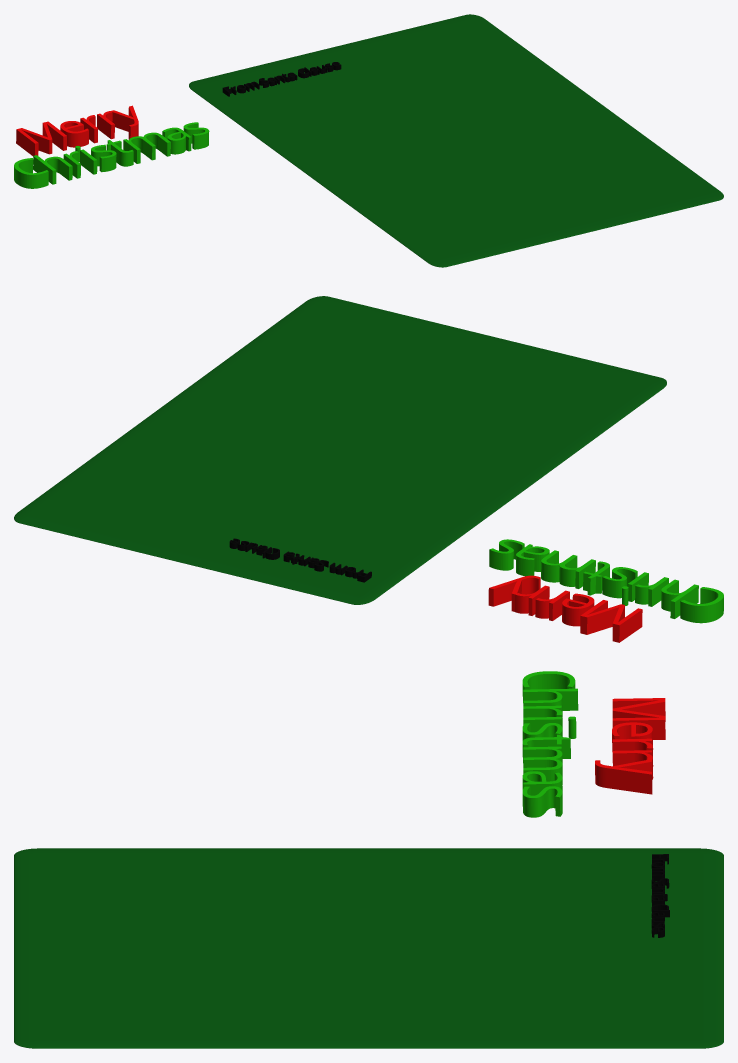
The model's file is letter_receive.glb.
3 renders of one model, top to bottom at view 1: azimuth 30°, elevation 25°; view 2: azimuth 150°, elevation 25°; view 3: azimuth 270°, elevation 25°, orthographic. The views are drawn at different scales.
Parts seen in each view (by area): view 1: Merged Objects, 3D Text 2 - M, 3D Text - m, 3D Text - C, 3D Text - h, 3D Text 2 - e, 3D Text - a, 3D Text 2 - y, 3D Text - s, 3D Text - s.001, 3D Text - t; view 2: Merged Objects, 3D Text 2 - M, 3D Text - m, 3D Text - C, 3D Text 2 - y, 3D Text - h, 3D Text - s.001, 3D Text - a, 3D Text 2 - e, 3D Text - s, 3D Text 2 - r, 3D Text - r (+2 smaller); view 3: Merged Objects, 3D Text 2 - y, 3D Text 2 - M, 3D Text - m, 3D Text - s.001, 3D Text - h, 3D Text - C, 3D Text 2 - e, 3D Text - a, 3D Text - t.
Boxes of the visible parts, x1=… form: Merged Objects: x1=189, y1=14, x2=723, y2=267; 3D Text 2 - M: x1=16, y1=121, x2=66, y2=156; 3D Text - m: x1=123, y1=132, x2=170, y2=163; 3D Text - C: x1=14, y1=158, x2=48, y2=188; 3D Text - h: x1=33, y1=155, x2=72, y2=184; 3D Text 2 - e: x1=60, y1=121, x2=88, y2=147; 3D Text - a: x1=162, y1=127, x2=191, y2=154; 3D Text 2 - y: x1=110, y1=105, x2=138, y2=139; 3D Text - s: x1=91, y1=144, x2=116, y2=172; 3D Text - s.001: x1=183, y1=122, x2=209, y2=149; 3D Text - t: x1=106, y1=140, x2=133, y2=166; Merged Objects: x1=14, y1=296, x2=666, y2=604; 3D Text 2 - M: x1=580, y1=600, x2=642, y2=642; 3D Text - m: x1=541, y1=550, x2=595, y2=588; 3D Text - C: x1=680, y1=587, x2=723, y2=623; 3D Text 2 - y: x1=488, y1=575, x2=540, y2=611; 3D Text - h: x1=661, y1=579, x2=698, y2=618; 3D Text - s.001: x1=489, y1=539, x2=524, y2=570; 3D Text - a: x1=516, y1=544, x2=549, y2=576; 3D Text 2 - e: x1=562, y1=593, x2=594, y2=626; 3D Text - s: x1=602, y1=567, x2=637, y2=598; 3D Text 2 - r: x1=535, y1=590, x2=569, y2=620; 3D Text - r: x1=635, y1=577, x2=668, y2=606; Merged Objects: x1=14, y1=848, x2=723, y2=1048; 3D Text 2 - y: x1=595, y1=759, x2=652, y2=794; 3D Text 2 - M: x1=612, y1=698, x2=665, y2=739; 3D Text - m: x1=523, y1=746, x2=562, y2=784; 3D Text - s.001: x1=522, y1=786, x2=562, y2=817; 3D Text - h: x1=523, y1=688, x2=578, y2=717; 3D Text - C: x1=522, y1=671, x2=575, y2=702; 3D Text 2 - e: x1=612, y1=722, x2=653, y2=751; 3D Text - a: x1=522, y1=771, x2=562, y2=796; 3D Text - t: x1=522, y1=734, x2=570, y2=762.
Size of the model in its own units: 1.78 by 0.0553 by 1.5.
